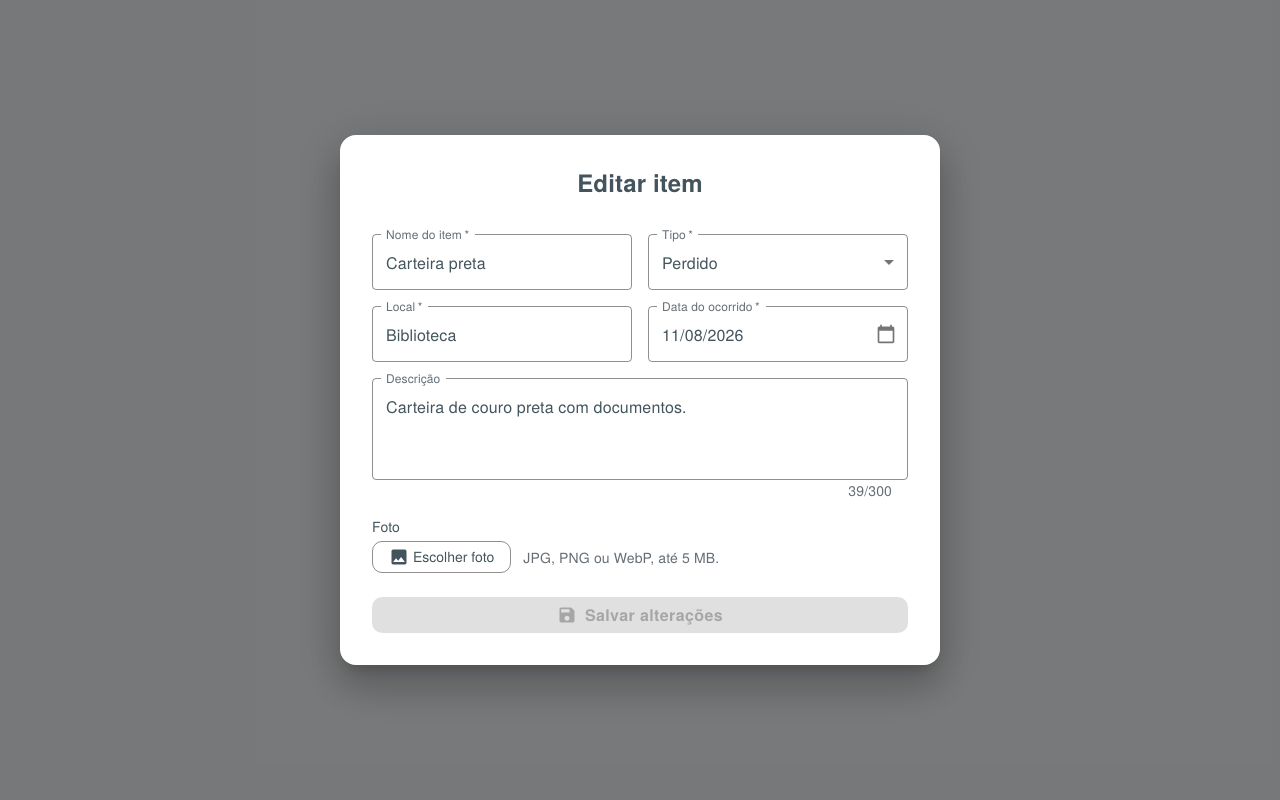
Test: LostItemFormDialog › should keep the dialog open when the api fails, with what was typed
This screenshot has width=1280, height=800.
Check: the heading "Editar item" is shown, box [577,165,703,199]
Replace the text in the field labelled "Nome do item *" with "Carteira marrom" at (502, 262), box [372,234,632,290]
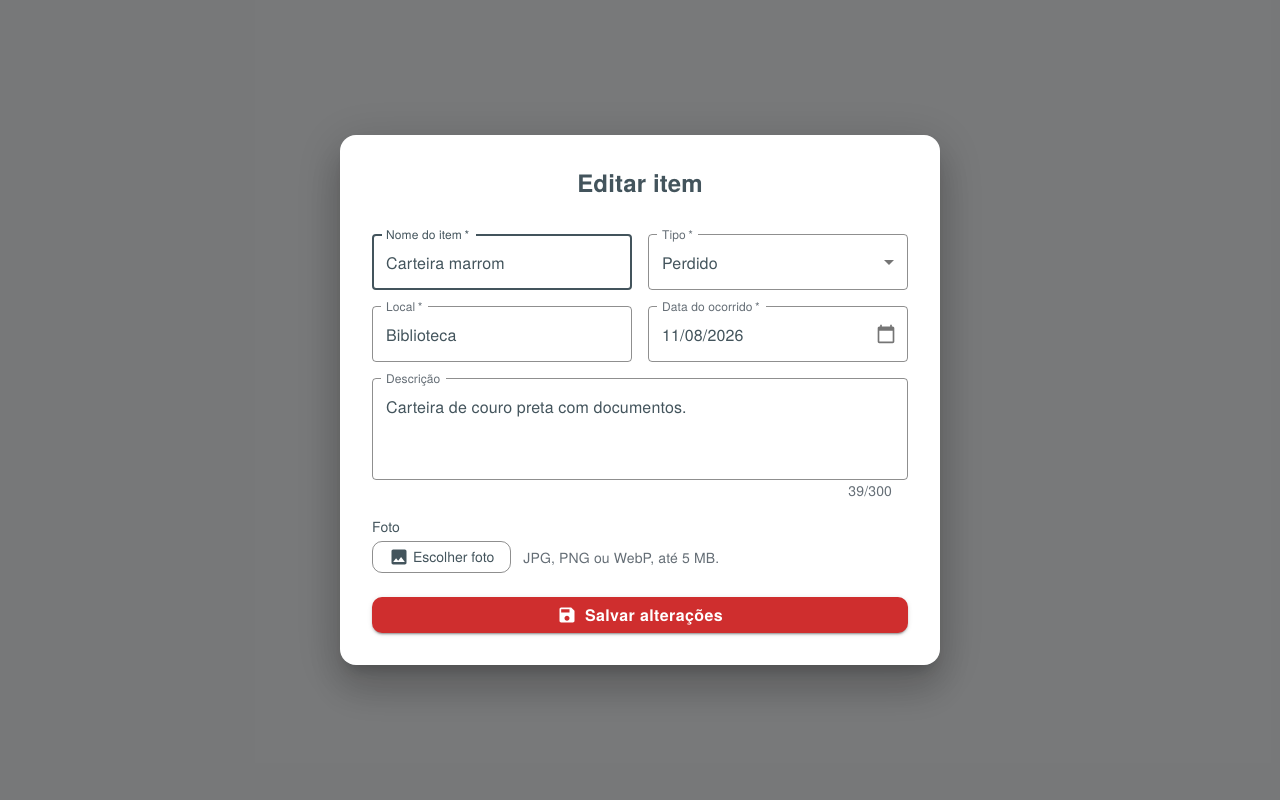
Click the button "Salvar alterações" at (640, 615), box [372,597,908,633]
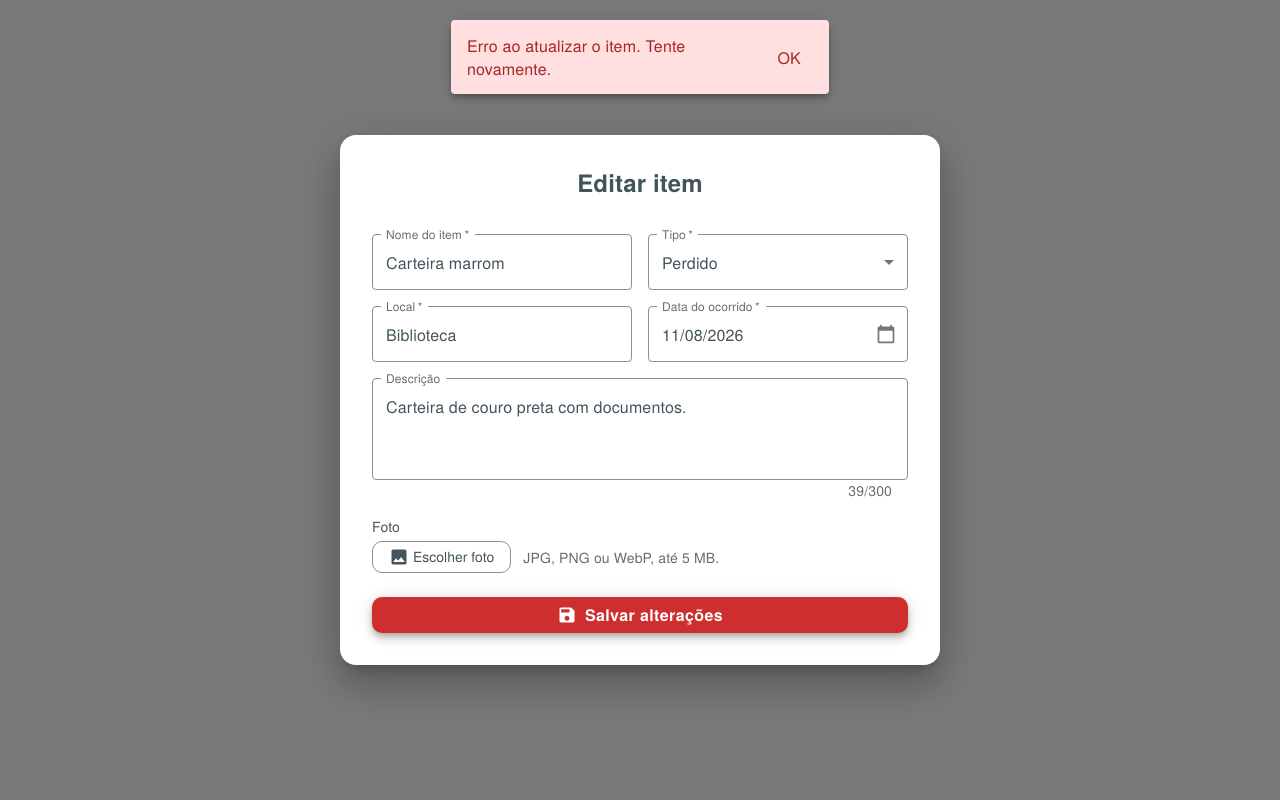
Check: the text "Erro ao atualizar o item. Tente novamente." is shown, box [467,34,685,80]
